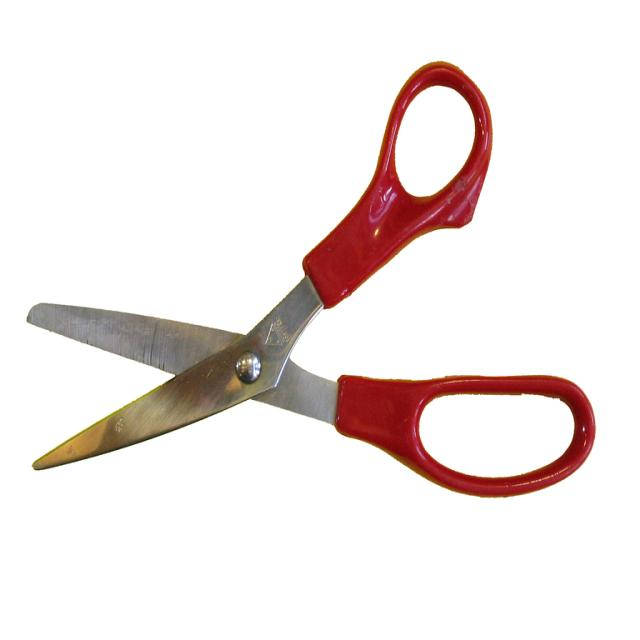scissors: (26, 59, 596, 498)
